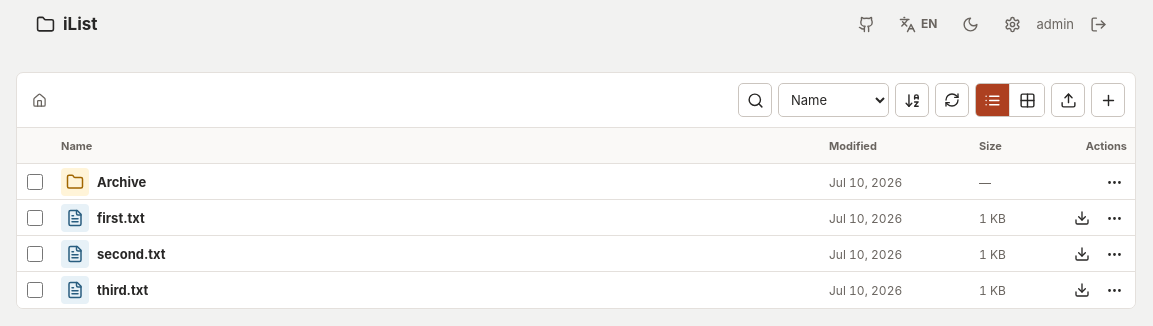
explorer collection interactions › supports anchored range selection and select all
Click the 2nd checkbox named "Select first.txt": click(35, 218) [27,210,43,226]
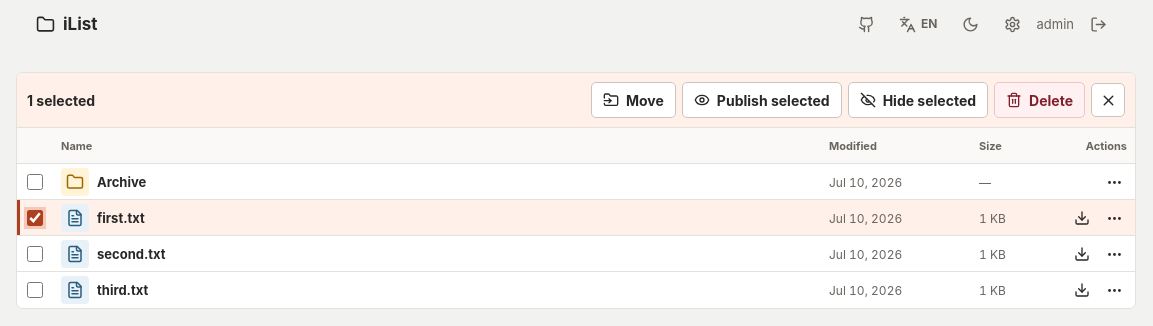
Click the 4th checkbox named "Select third.txt": click(35, 290) [27,282,43,298]
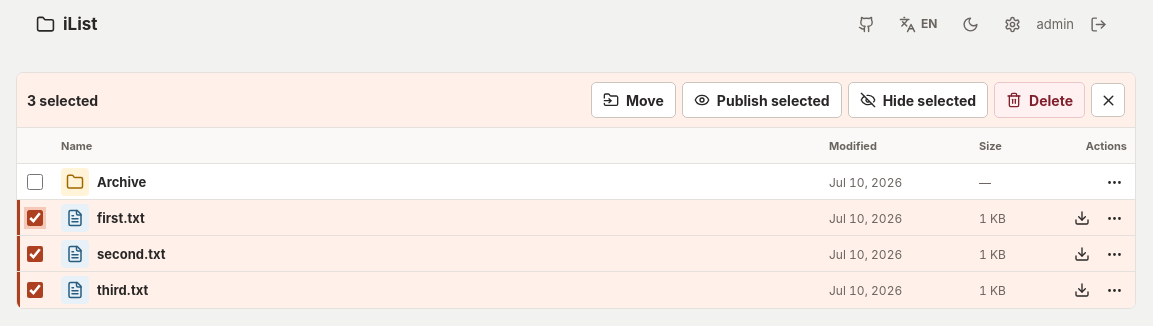
expect the text "3 selected" is shown: met, box [27,92,98,108]
Press a in the list named "Files and folders", box [17,164,1135,308]
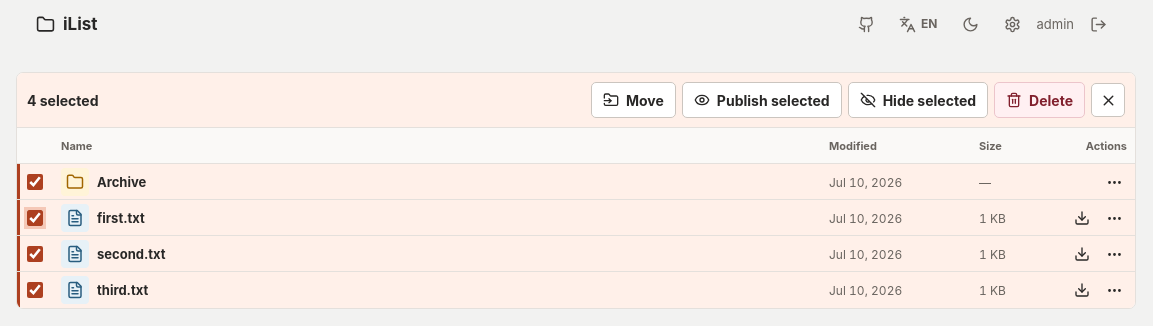
expect the text "4 selected" is shown: met, box [27,92,98,108]
